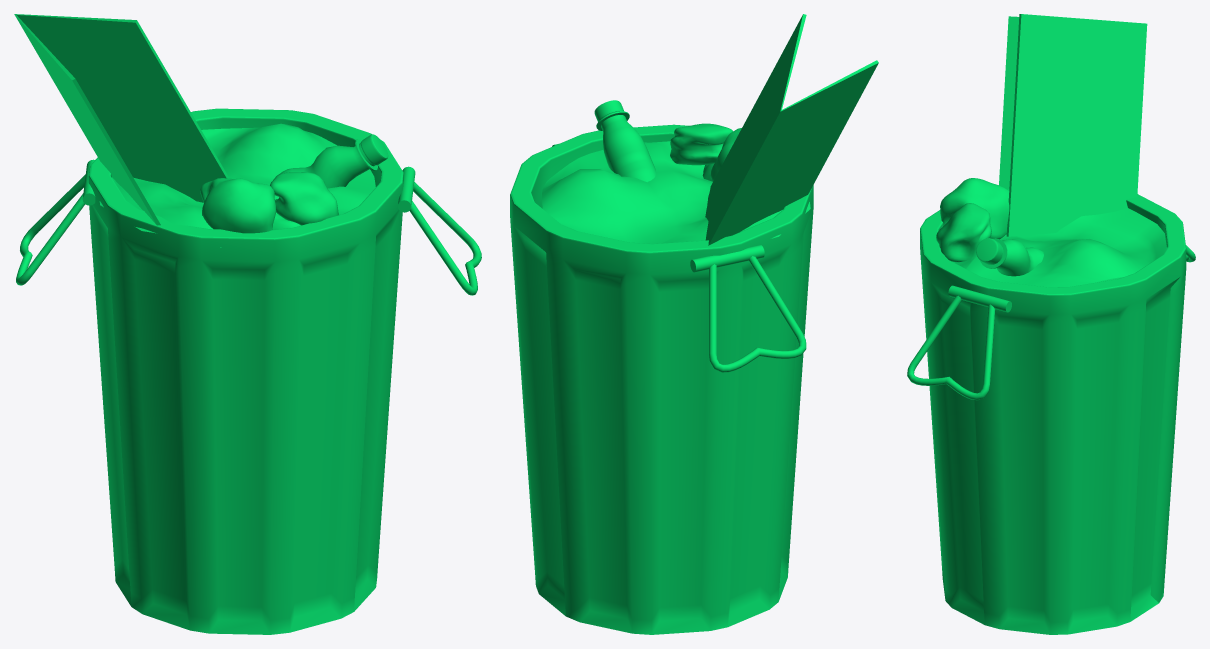
Rendered from SM_TrashCan.fbx.
3 views of the same model, side by side, from view 1: azimuth 30°, elevation 25°; view 2: azimuth 150°, elevation 25°; view 3: azimuth 270°, elevation 25° (orthographic). The views are drawn at different scales.
Visible parts, largest first — view 1: SM_TrashCan; view 2: SM_TrashCan; view 3: SM_TrashCan.
Boxes of the visible parts, x1,y1,x2,y2 form: SM_TrashCan: (14,14,481,634); SM_TrashCan: (510,14,878,634); SM_TrashCan: (907,14,1195,634).
Bounding box in the file's own units: 87.98 × 130 × 65.47.
